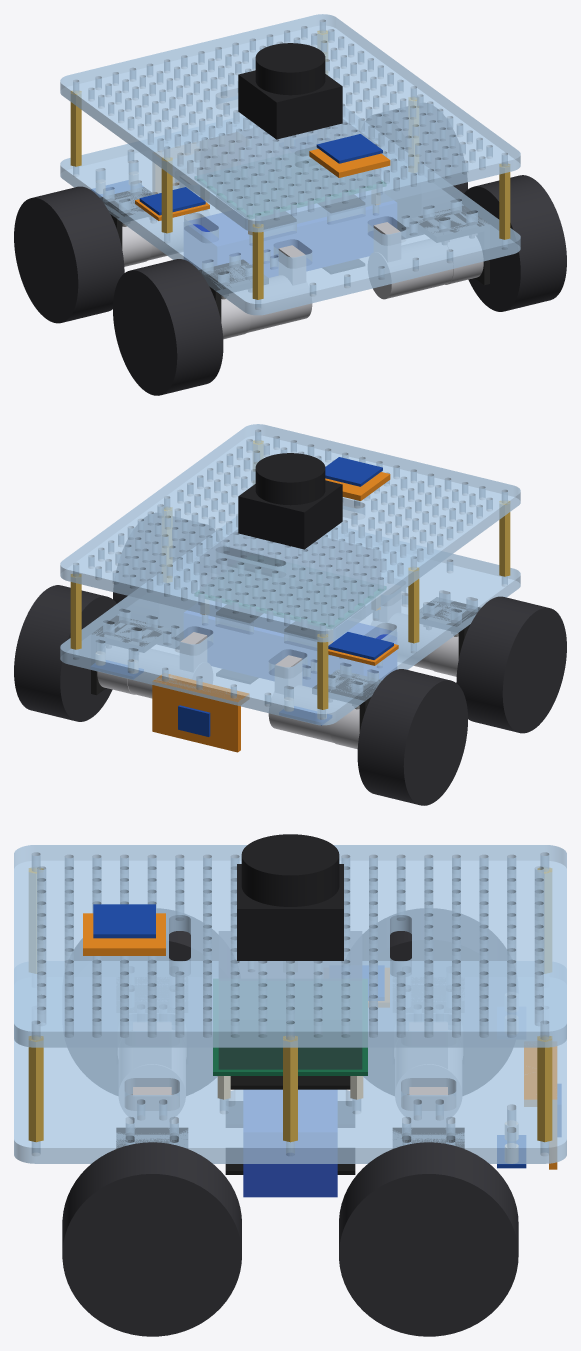
File: chassis_assembly.glb
The picture shows the model from 3 angles, top to bottom: view 1: azimuth 30°, elevation 25°; view 2: azimuth 150°, elevation 25°; view 3: azimuth 270°, elevation 25°; orthographic projection. The views are drawn at different scales.
Parts seen in each view (by area): view 1: top_plate, bottom_plate, wheel_LB, wheel_LF, wheel_RB, sensor_ld06, battery, motor_RB, board_components, motor_LB, wheel_RF, motor_LF (+11 smaller); view 2: top_plate, bottom_plate, wheel_LF, wheel_LB, wheel_RF, sensor_ld06, board_components, battery, sensor_front_tof_bracket, motor_LF, wheel_RB, motor_RF (+13 smaller); view 3: top_plate, bottom_plate, wheel_RB, wheel_RF, sensor_ld06, battery, wheel_LF, board_components, wheel_LB, maker_esp32, motor_LF, motor_LB (+15 smaller).
Part boxes in pixels (<box>): top_plate: <box>60,14,520,232</box>; bottom_plate: <box>60,108,520,315</box>; wheel_LB: <box>113,259,223,395</box>; wheel_LF: <box>14,186,124,323</box>; wheel_RB: <box>461,175,566,311</box>; sensor_ld06: <box>238,43,342,139</box>; battery: <box>184,201,396,277</box>; motor_RB: <box>368,222,483,299</box>; board_components: <box>200,120,380,208</box>; motor_LB: <box>221,245,312,339</box>; wheel_RF: <box>366,103,467,238</box>; motor_LF: <box>122,173,209,266</box>; top_plate: <box>60,424,520,642</box>; bottom_plate: <box>60,518,520,725</box>; wheel_LF: <box>357,669,467,805</box>; wheel_LB: <box>456,596,566,733</box>; wheel_RF: <box>14,585,119,721</box>; sensor_ld06: <box>238,453,342,549</box>; board_components: <box>200,530,380,621</box>; battery: <box>184,611,396,687</box>; sensor_front_tof_bracket: <box>152,674,248,752</box>; motor_LF: <box>268,655,359,749</box>; wheel_RB: <box>113,513,214,648</box>; motor_RF: <box>97,632,212,698</box>; top_plate: <box>14,845,566,1047</box>; bottom_plate: <box>14,961,566,1163</box>; wheel_RB: <box>62,1142,241,1336</box>; wheel_RF: <box>339,1142,518,1336</box>; sensor_ld06: <box>237,834,343,960</box>; battery: <box>243,1090,337,1197</box>; wheel_LF: <box>363,909,512,1095</box>; board_components: <box>218,931,362,1069</box>; wheel_LB: <box>68,909,217,1095</box>; maker_esp32: <box>213,979,367,1075</box>; motor_LF: <box>395,1023,462,1119</box>; motor_LB: <box>118,1023,185,1119</box>.
Bounding box in the file's own units: 228 × 139 × 200.
